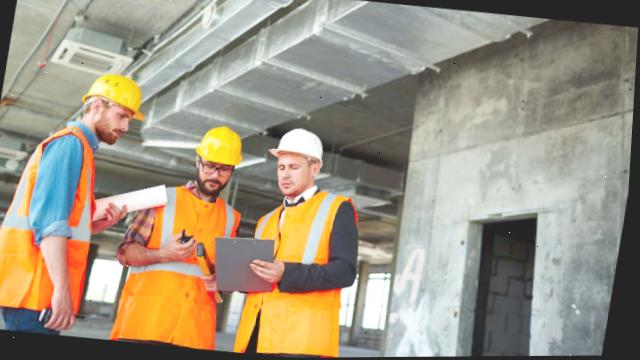helmet: (81, 70, 153, 123), (270, 124, 330, 168), (196, 123, 250, 168)
vest: (241, 184, 361, 358), (0, 129, 102, 315), (121, 194, 241, 345)
